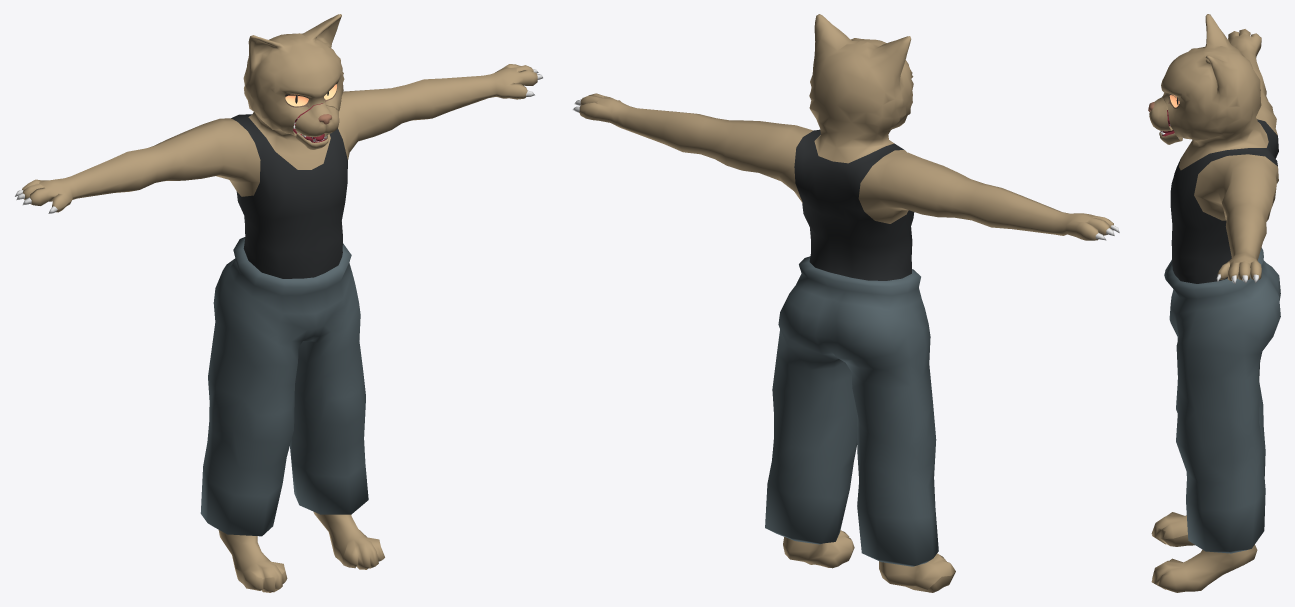
File: ric cat threshold 1.fbx
3 views of the same model, side by side, from view 1: azimuth 30°, elevation 25°; view 2: azimuth 150°, elevation 25°; view 3: azimuth 270°, elevation 25° (orthographic). The views are drawn at different scales.
Visible parts, largest first — view 1: CAT_MAIN.042, cat upper mouth; view 2: CAT_MAIN.042; view 3: CAT_MAIN.042, cat upper mouth.
Part boxes in pixels (x1=…): CAT_MAIN.042: x1=15, y1=14, x2=542, y2=592; cat upper mouth: x1=295, y1=103, x2=339, y2=136; CAT_MAIN.042: x1=572, y1=14, x2=1119, y2=592; CAT_MAIN.042: x1=1151, y1=14, x2=1280, y2=592; cat upper mouth: x1=1148, y1=96, x2=1172, y2=131.
Bounding box in the file's own units: 376 × 370 × 84.17.
